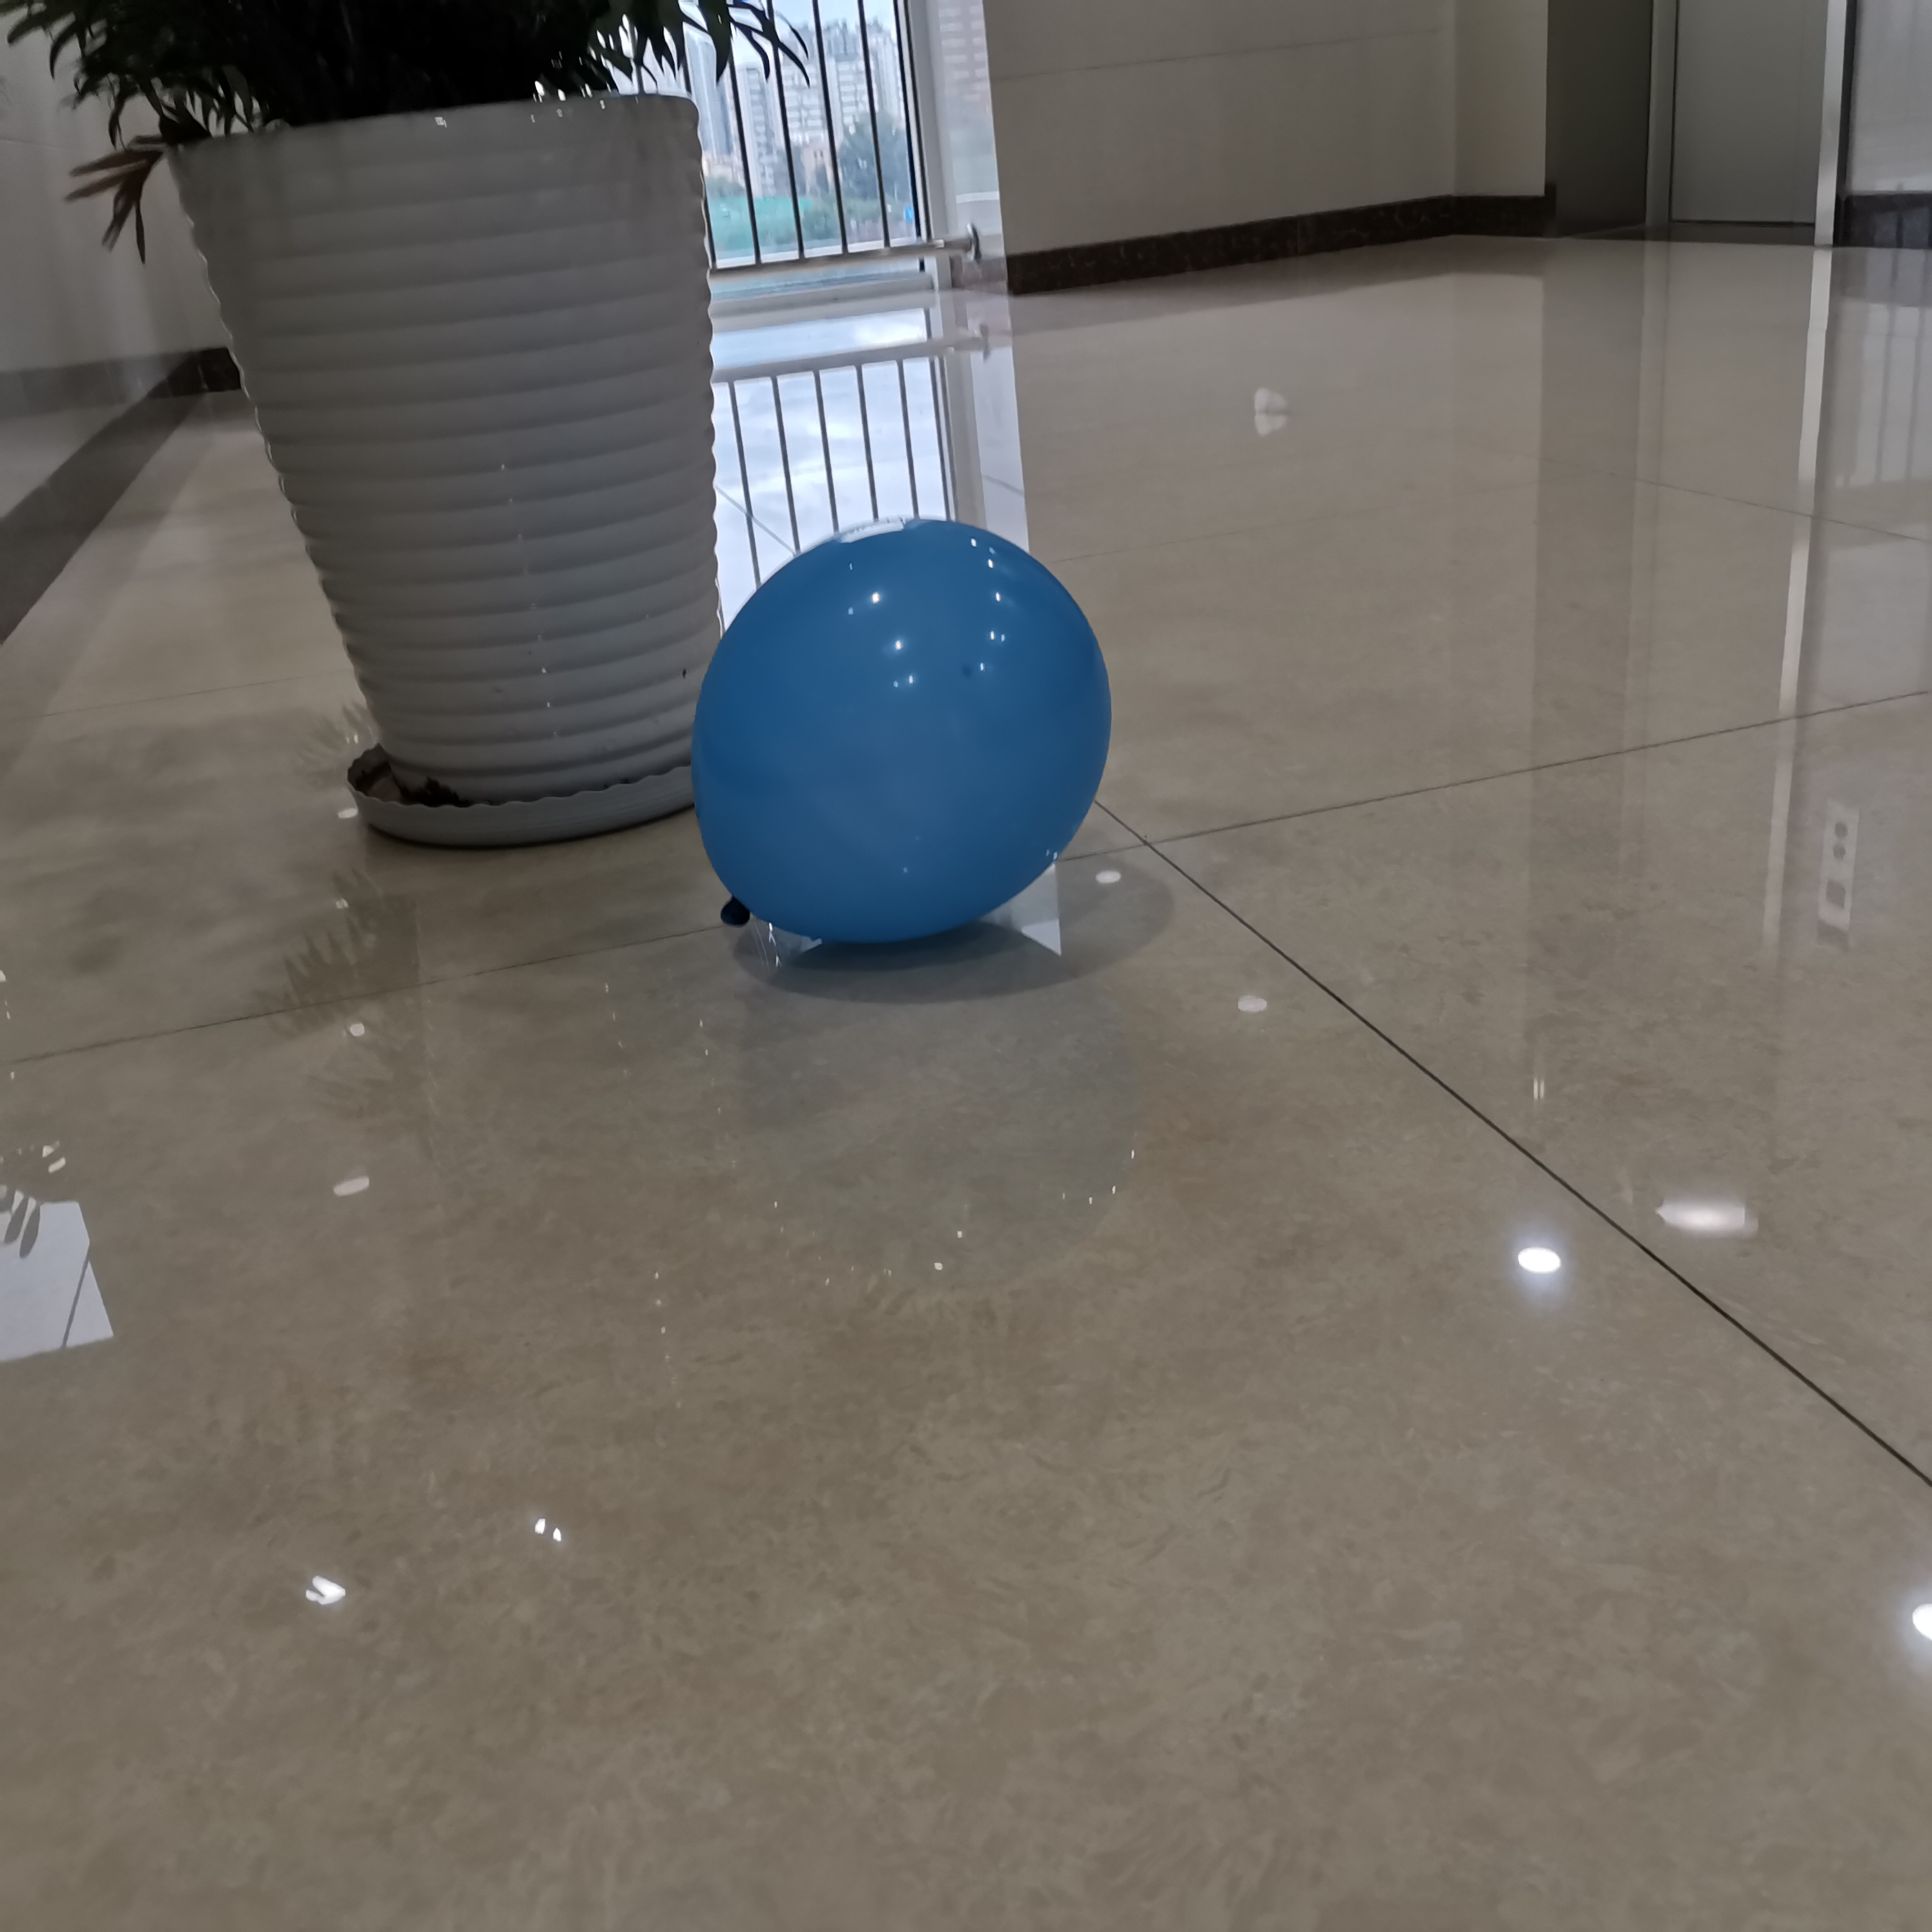balloon: (694, 518, 1113, 939)
